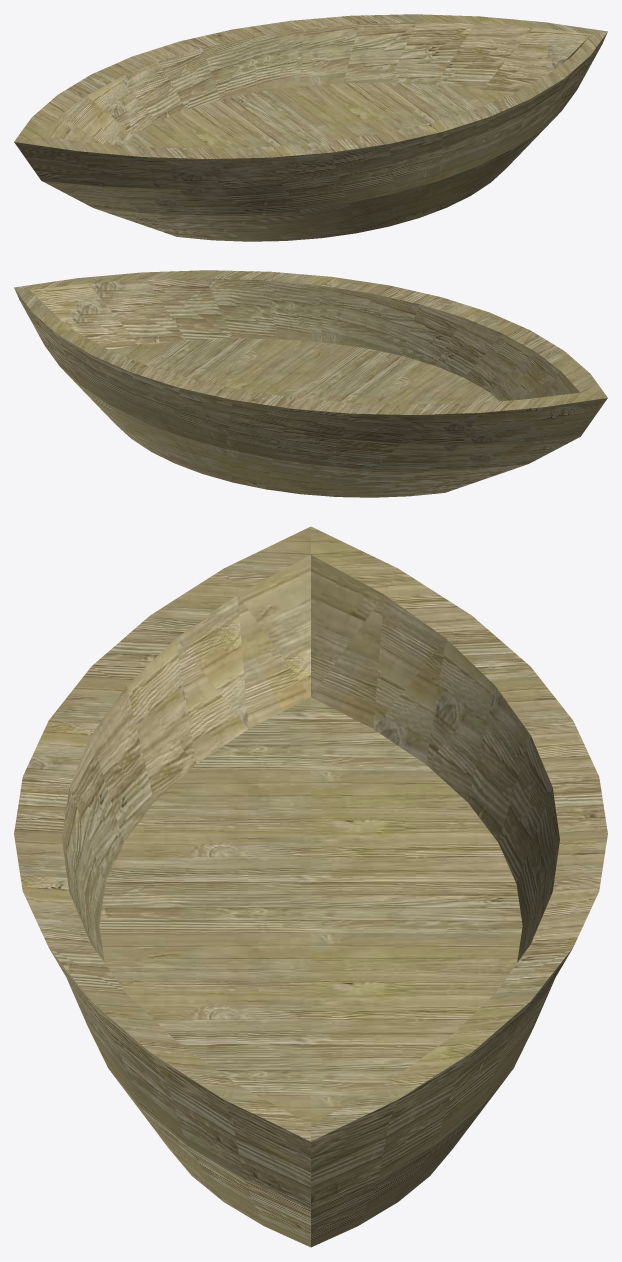
Rendered from boat.dae.
3 renders of one model, top to bottom at view 1: azimuth 30°, elevation 25°; view 2: azimuth 150°, elevation 25°; view 3: azimuth 270°, elevation 25°, orthographic. The views are drawn at different scales.
Visible parts, largest first — view 1: Model; view 2: Model; view 3: Model.
Boxes of the visible parts, bbox=[...] form: Model: bbox=[14, 14, 607, 241]; Model: bbox=[14, 270, 607, 497]; Model: bbox=[14, 526, 607, 1247].
Size of the model in its own units: 117 by 53.23 by 32.04.
